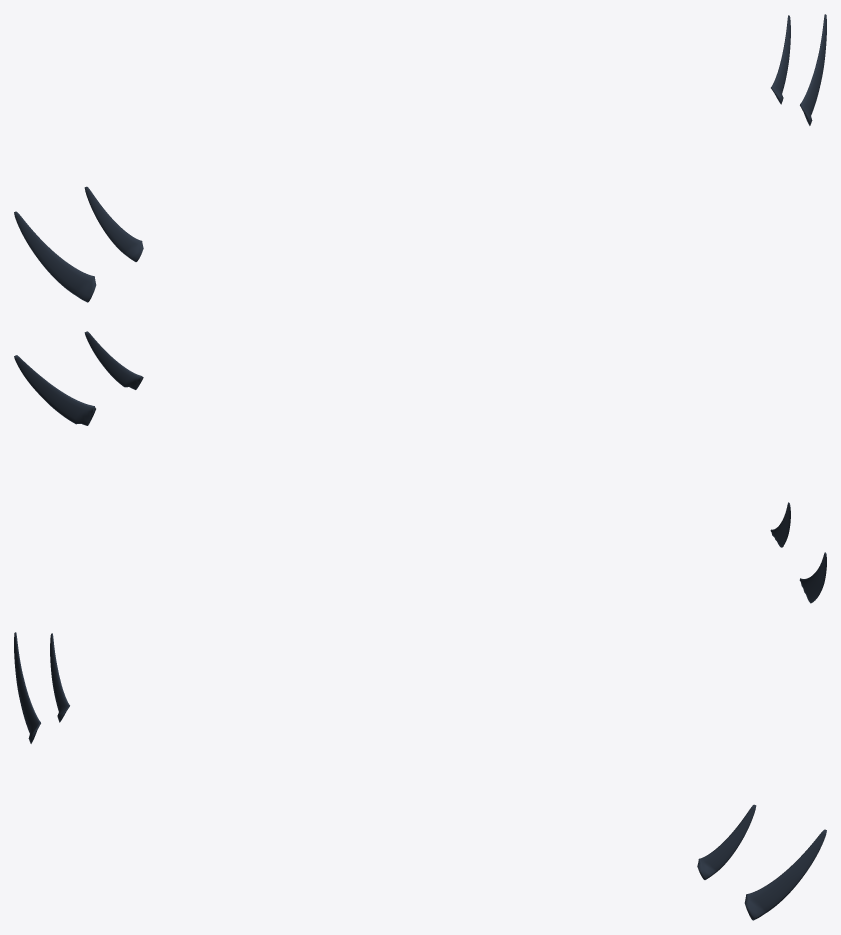
Rendered from Feminine-Feminine-tapered-lashes-0b170243.glb.
3 views of the same model, one above another, from view 1: azimuth 30°, elevation 25°; view 2: azimuth 150°, elevation 25°; view 3: azimuth 330°, elevation 25° (orthographic).
Visible parts, largest first — view 1: 226 eyelashes / Lashes / charcoal234; view 2: 226 eyelashes / Lashes / charcoal234; view 3: 226 eyelashes / Lashes / charcoal234.
Part boxes in pixels (x1=…): 226 eyelashes / Lashes / charcoal234: x1=14, y1=14, x2=826, y2=302; 226 eyelashes / Lashes / charcoal234: x1=14, y1=331, x2=826, y2=603; 226 eyelashes / Lashes / charcoal234: x1=14, y1=632, x2=826, y2=920.
Size of the model in its own units: 0.4416 by 0.0547 by 0.038.
